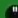black: (0, 0, 18, 18)
